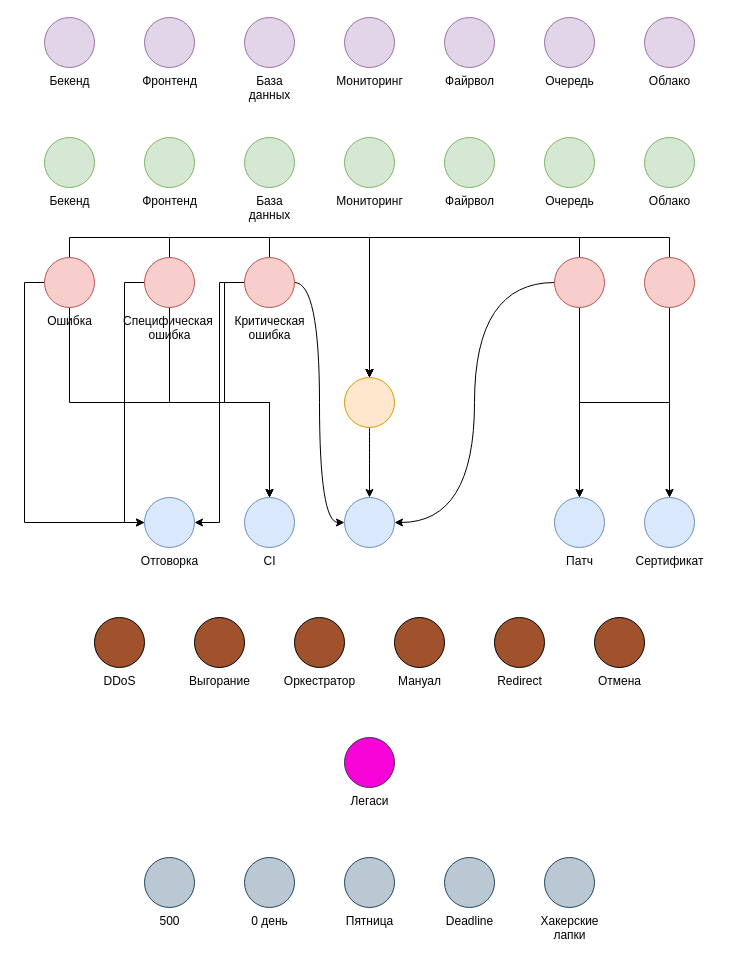
The diagram is 732 pixels wide and 961 high, and some of its shapes have lost their labels. The shapes that lost their labels are listed below. From the top down, each one's box as (x1, y1, x2, y2) in pixels, then its label:
(554, 256, 604, 308): Уязвимость
(644, 256, 694, 308): Специфическая уязвимость
(344, 376, 394, 428): sudo
(344, 496, 394, 548): Костыли
